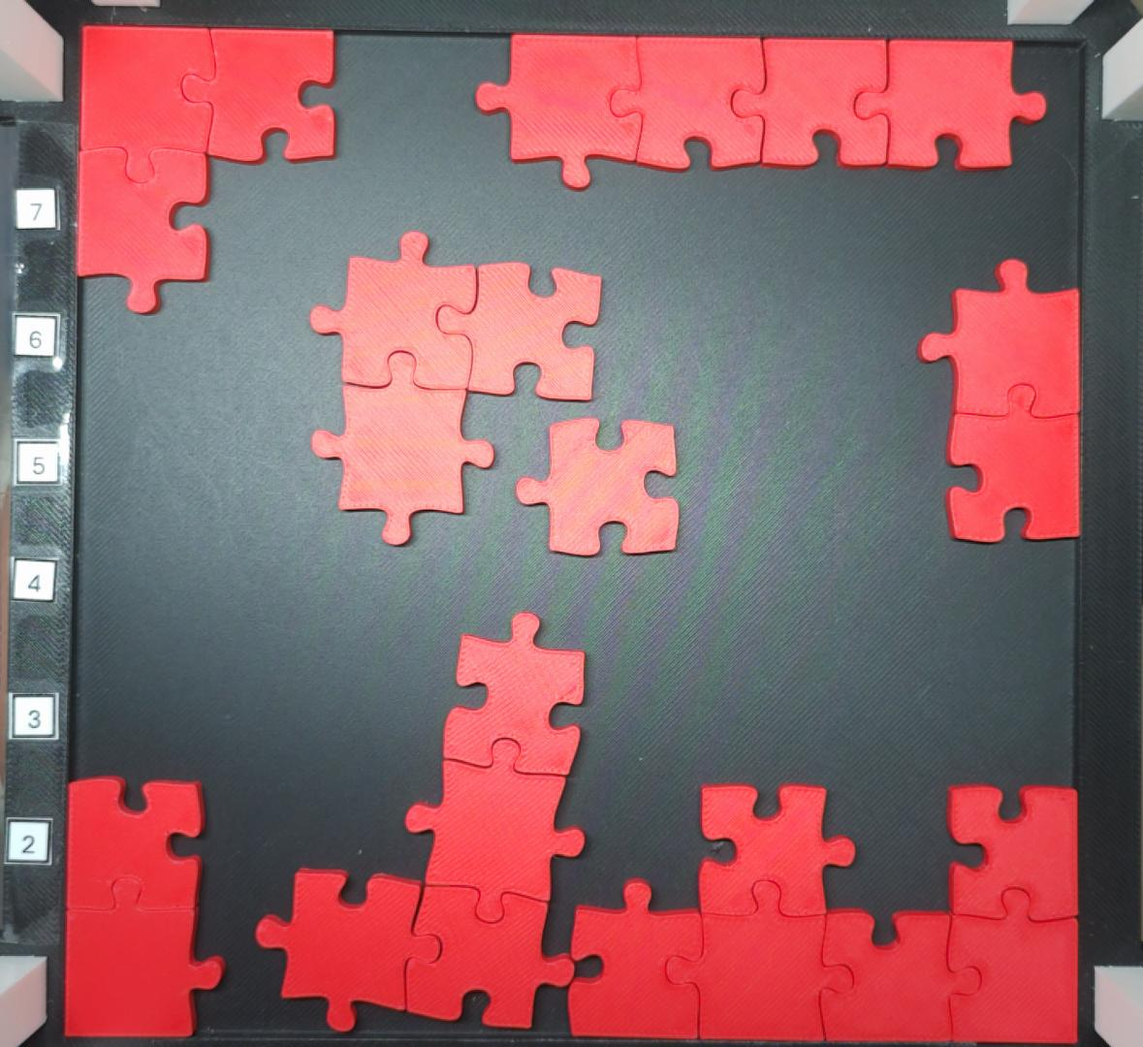p_1: (514, 416, 682, 558)
p_2: (917, 256, 1085, 545), (60, 774, 227, 1042)
p_3: (308, 229, 605, 547), (74, 24, 337, 315)
p_4: (251, 610, 588, 1035), (475, 31, 1049, 192)
p_m: (564, 781, 1081, 1044)
